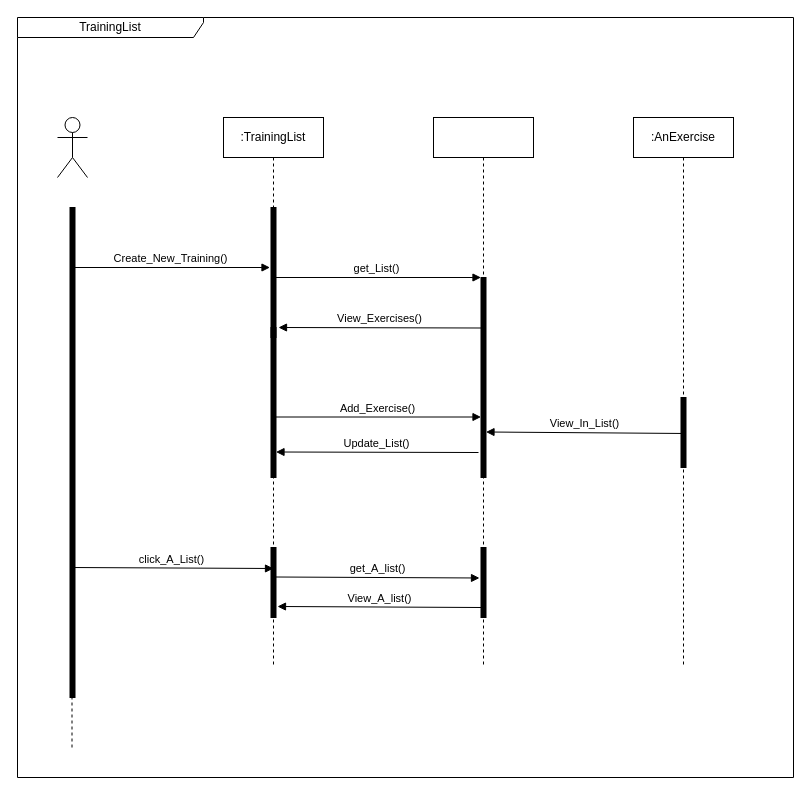
This 811x795 diagram has some shape labels left out. The box of each missing label's shape, as (x1, y1, x2, y2) in pixels:
:ExerciseList: (432, 116, 534, 668)
User: (56, 116, 88, 178)
